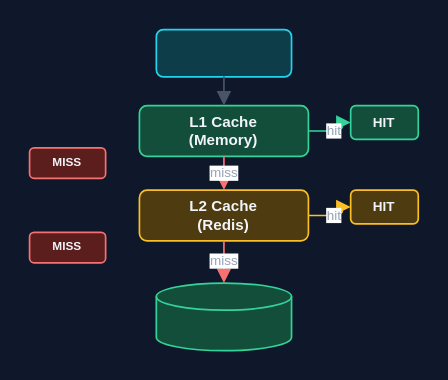
This 448x380 diagram has some shape labels left out. Each missing label, with the centre of its shape:
"Client" belongs at point 223,52.
"Database" belongs at point 223,316.
